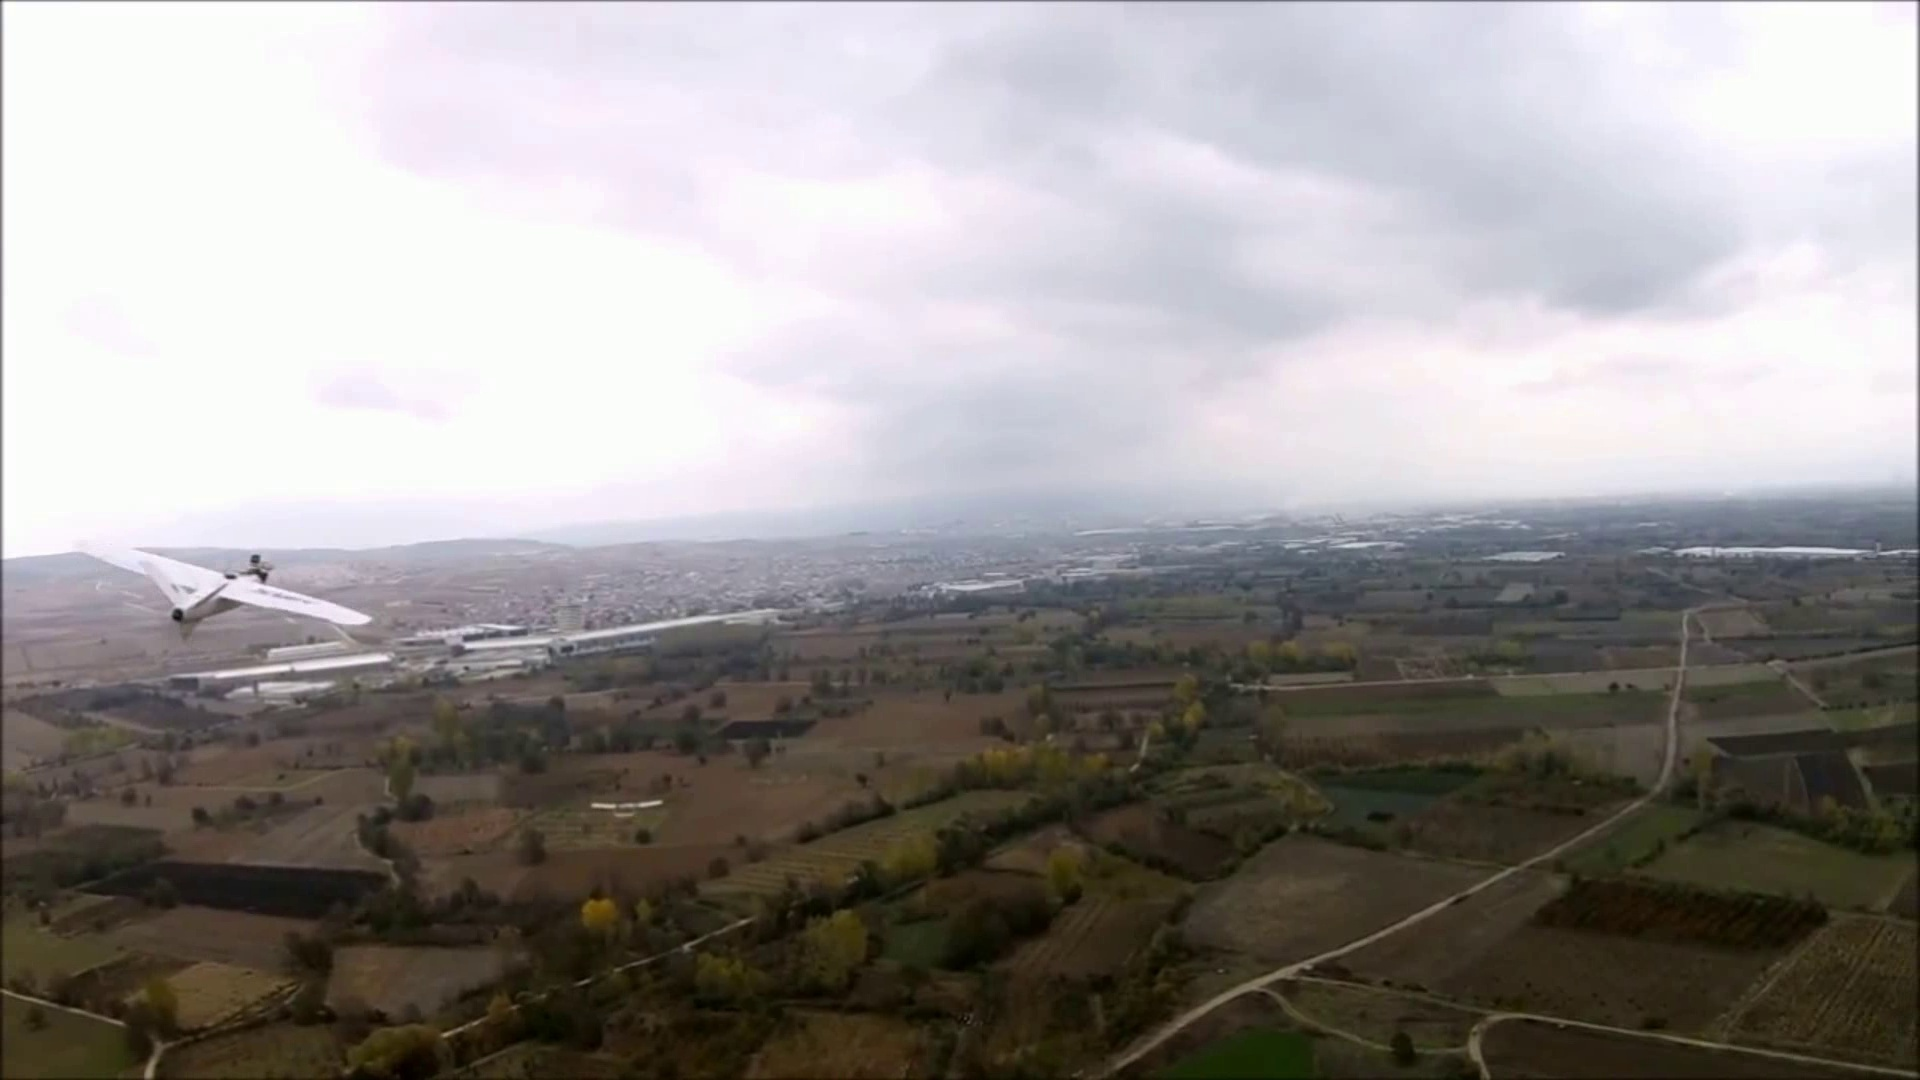airplane: (131, 549, 378, 640)
